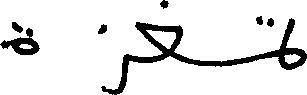ة: (0, 20, 41, 57)
ز: (96, 22, 128, 93)
غ: (135, 0, 185, 64)
ل: (278, 16, 295, 59)
م: (249, 14, 275, 65), (272, 42, 306, 71)
